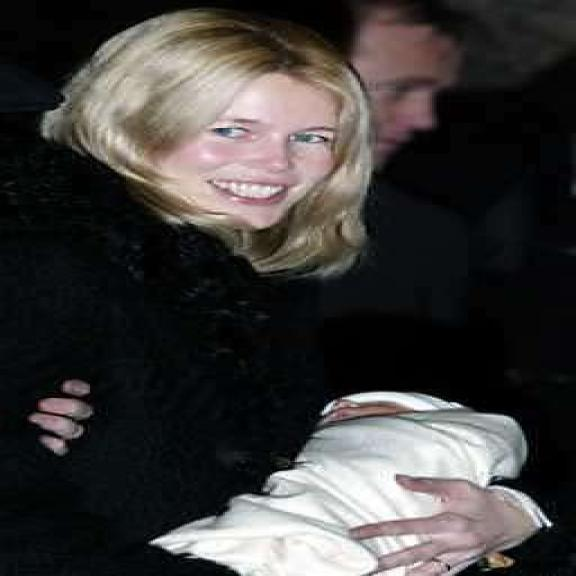face: (125, 66, 345, 234)
